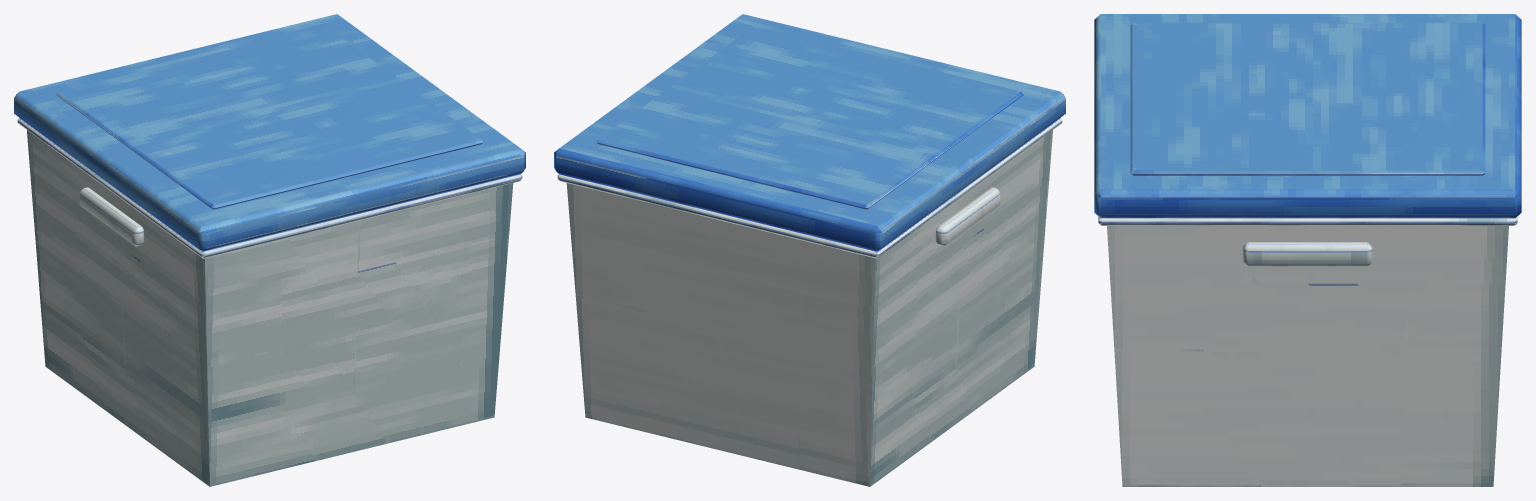
Rendered from gk_bin.glb.
3 renders of one model, left to right at view 1: azimuth 30°, elevation 25°; view 2: azimuth 150°, elevation 25°; view 3: azimuth 270°, elevation 25°, orthographic. The views are drawn at different scales.
Visible parts, largest first — view 1: mesh; view 2: mesh; view 3: mesh.
Part boxes in pixels (x1=…): mesh: x1=14, y1=14, x2=525, y2=486; mesh: x1=554, y1=14, x2=1065, y2=486; mesh: x1=1094, y1=14, x2=1521, y2=486.
Size of the model in its own units: 0.53 by 0.427 by 0.53.
1 material, 1 textured.
